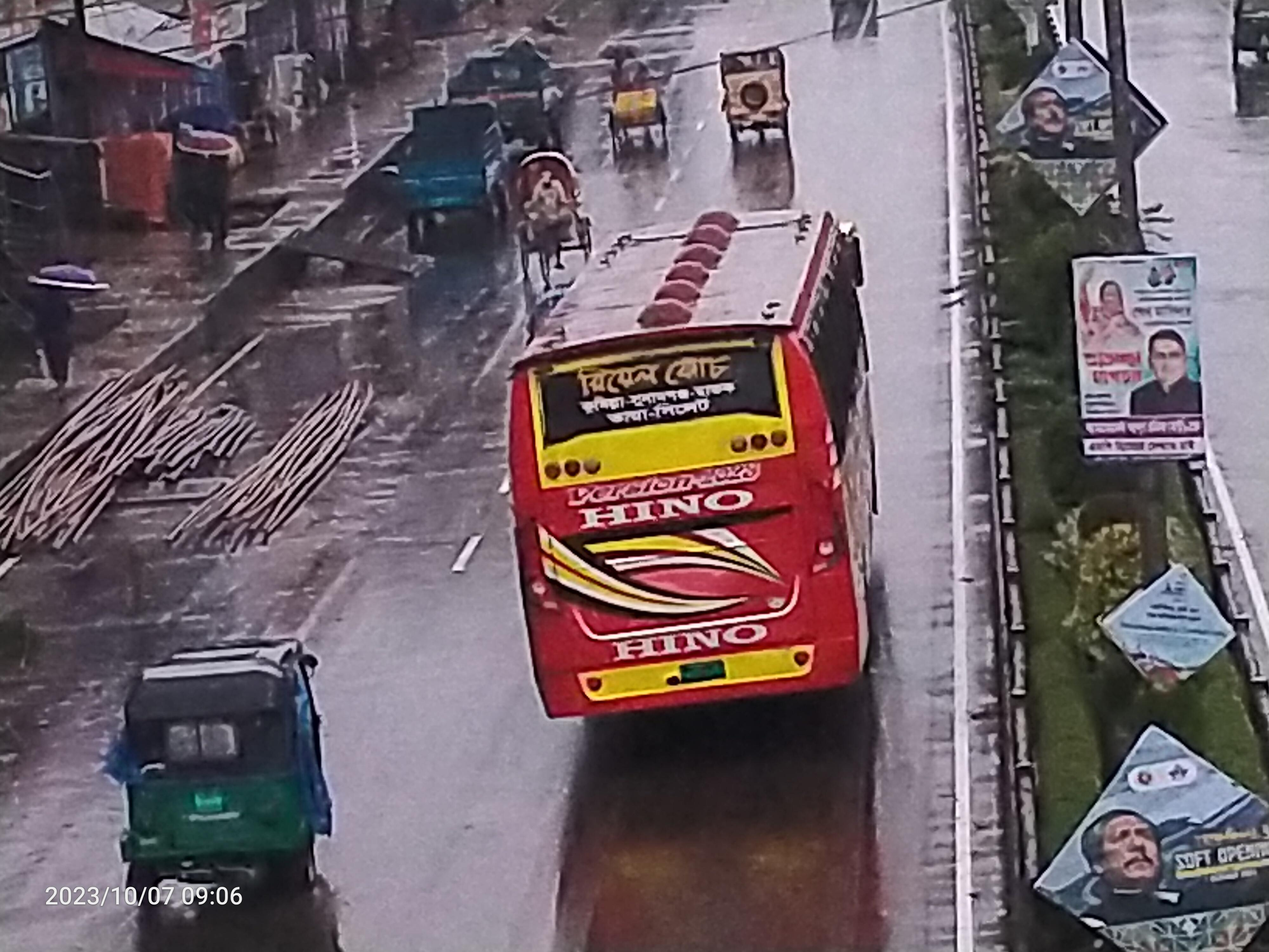Bus: (470, 192, 912, 763)
Car: (494, 140, 610, 291), (574, 27, 686, 174), (710, 24, 816, 178)
Truck: (390, 89, 536, 270)
